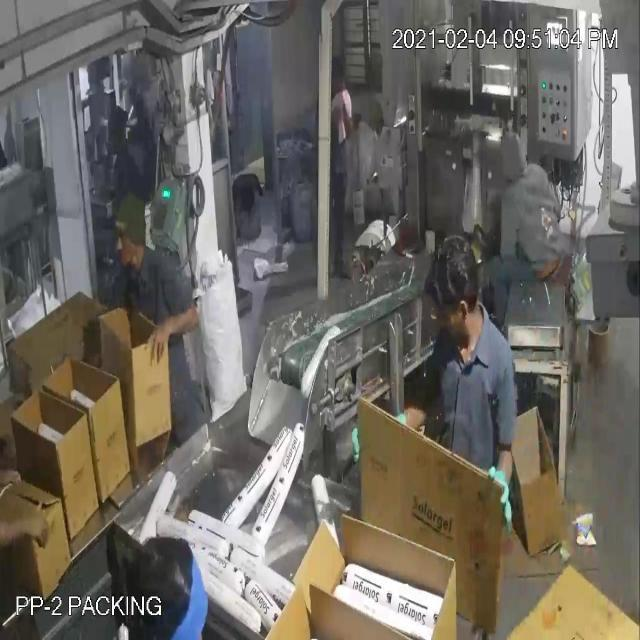No_Gloves: (32, 60, 170, 529)
